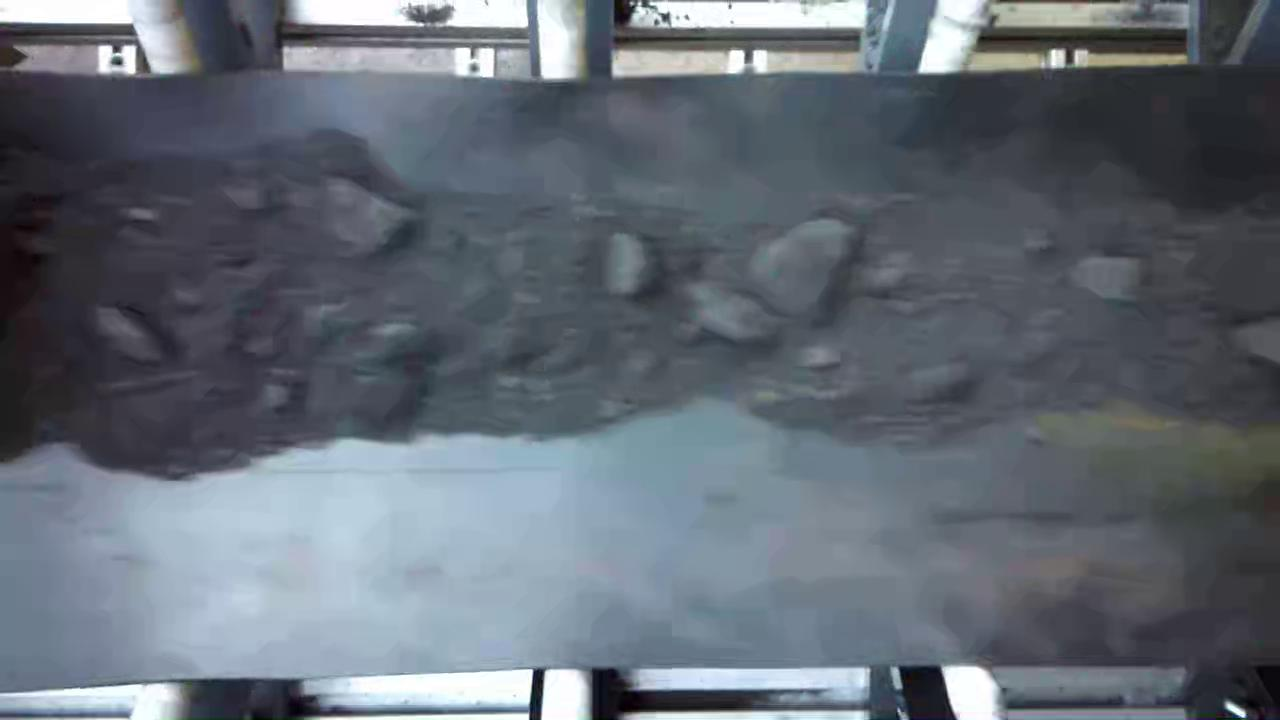conveyor: (9, 93, 1270, 648)
